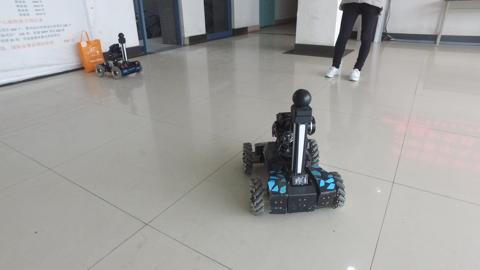bag: (77, 29, 105, 74)
chariot: (241, 87, 347, 218), (96, 32, 143, 80)
